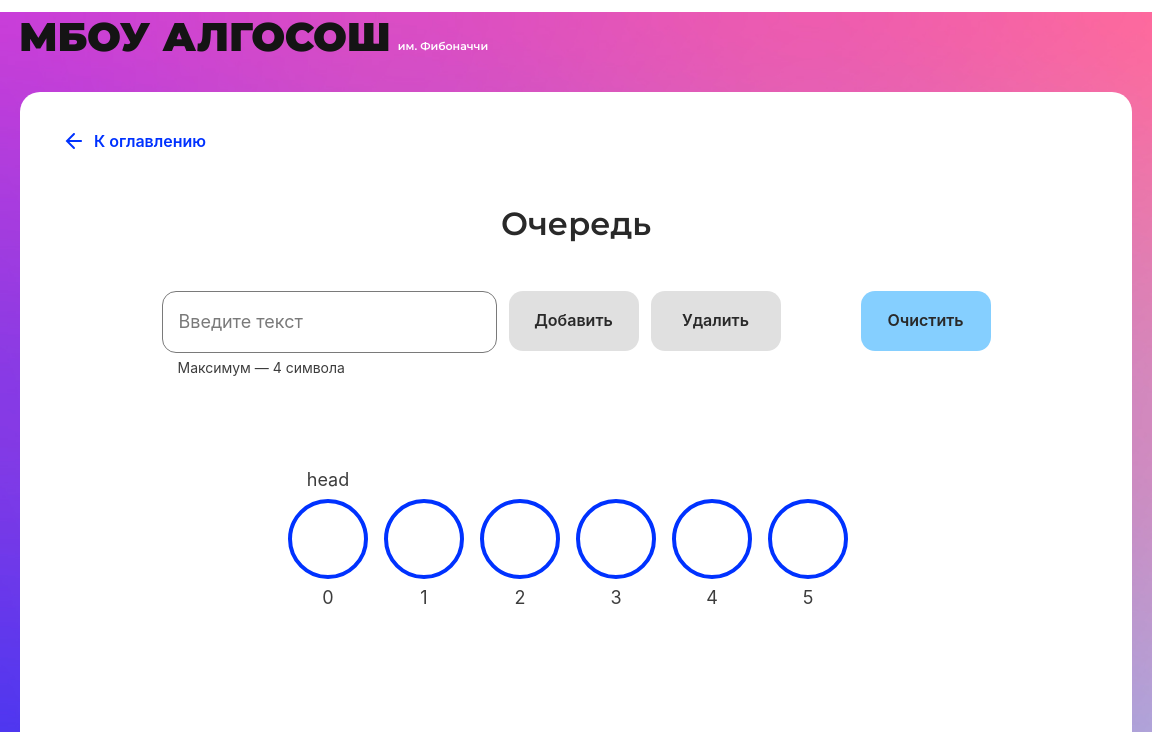
тестирование компонента queue › правильность добавления элемента в очередь
This screenshot has width=1152, height=732.
Type "1" into the field with test id "input" at (330, 322), box [162,291,497,353]
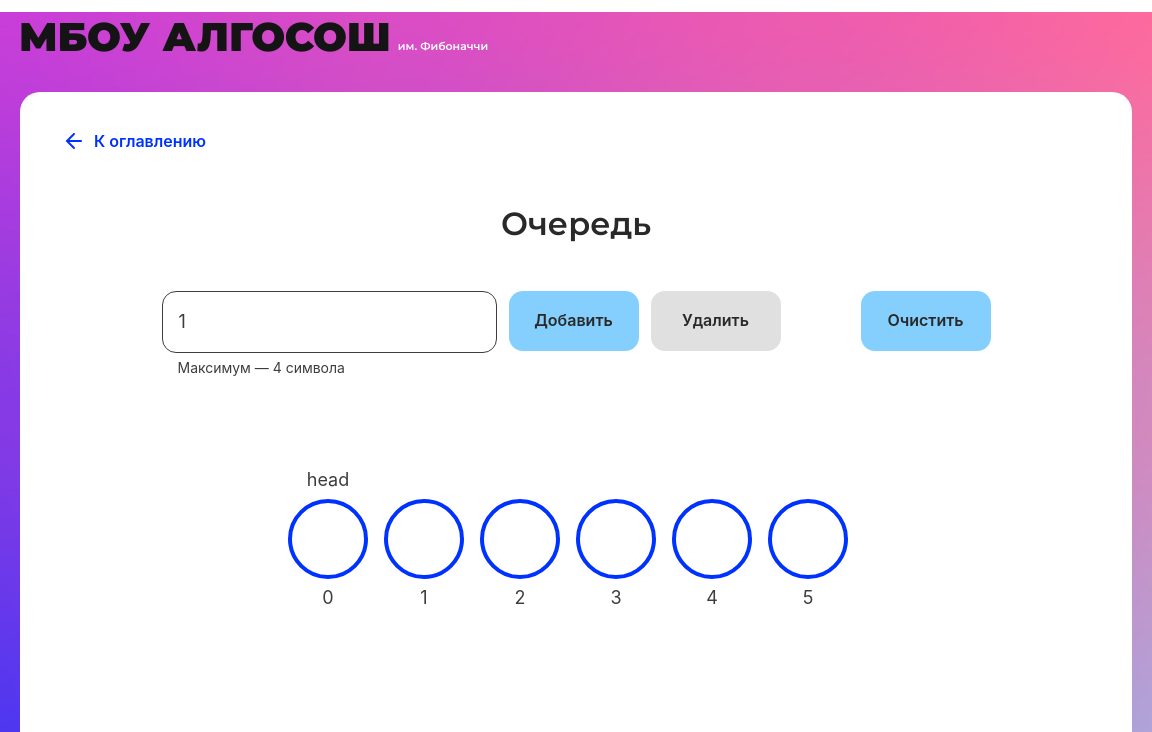
expect the element with test id "button_add" is enabled: met
Click the button with test id "button_add" at (574, 321), box [509,291,639,351]
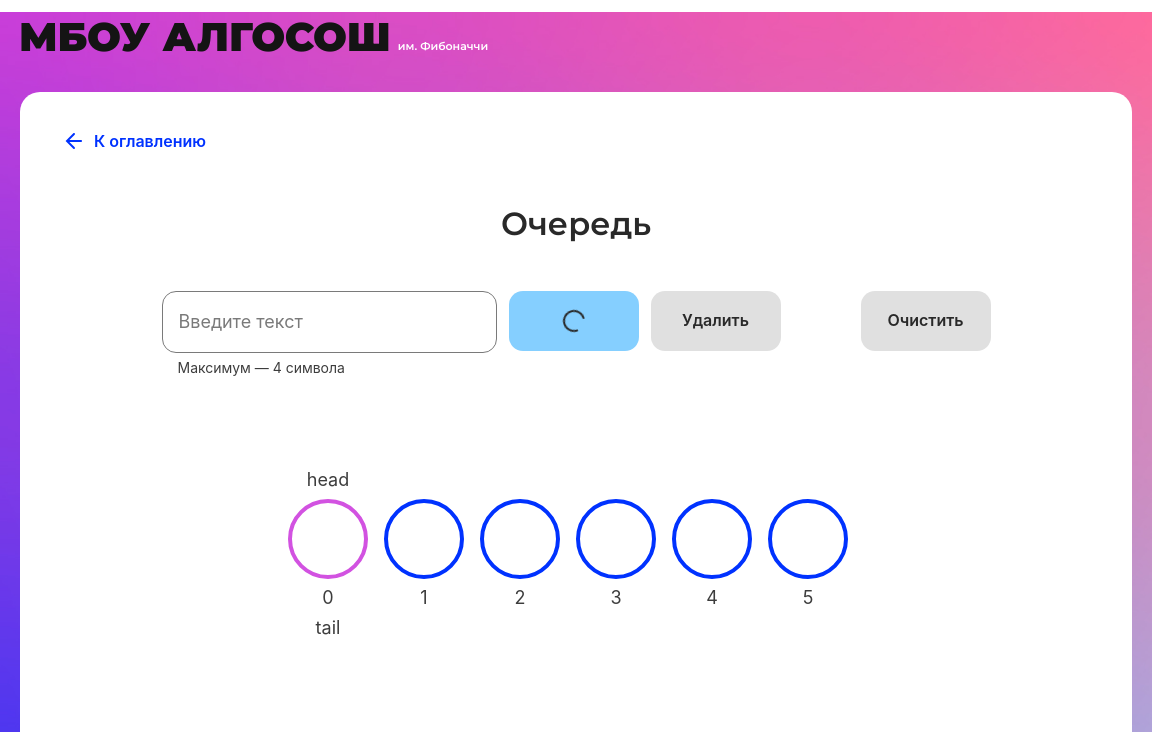
expect the text "head" is shown: met, box [307,469,349,491]
expect the button with test id "button_add" is disabled: met, box [509,291,639,351]
expect the text "tail" is shown: met, box [316,617,340,639]
Wait "500"
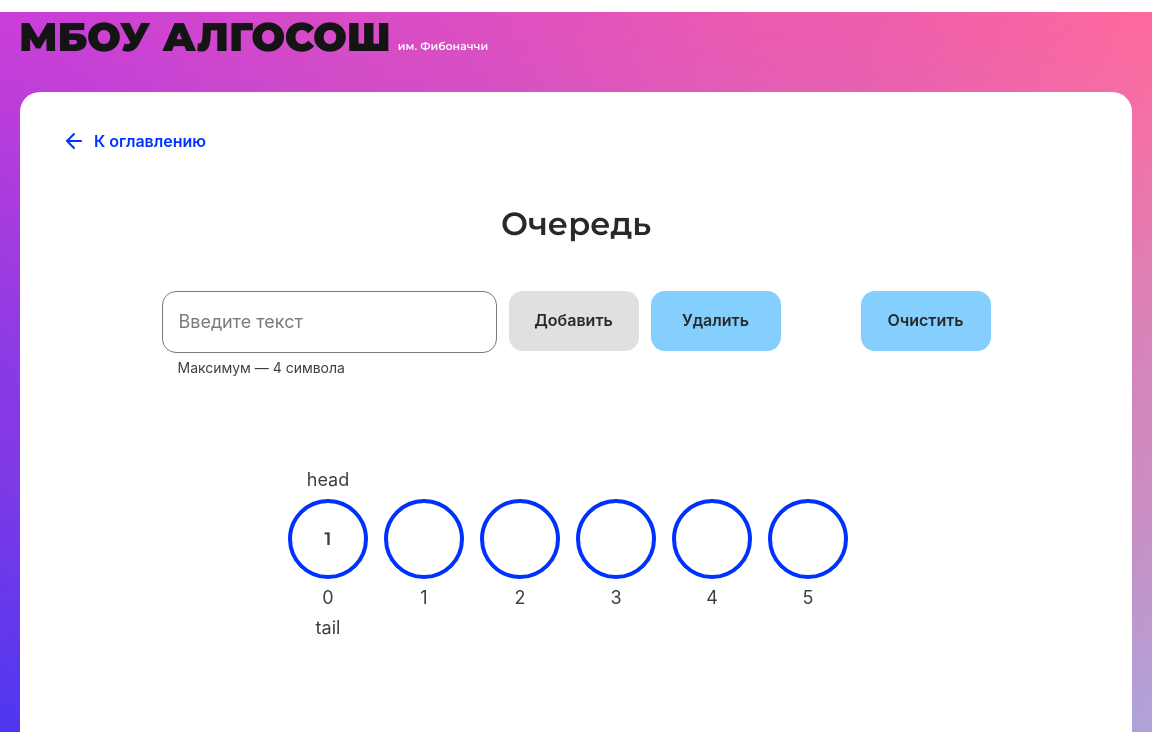
expect the element showing "1" is shown: met, box [288,499,368,579]
Type "2" into the field with test id "input" at (330, 322), box [162,291,497,353]
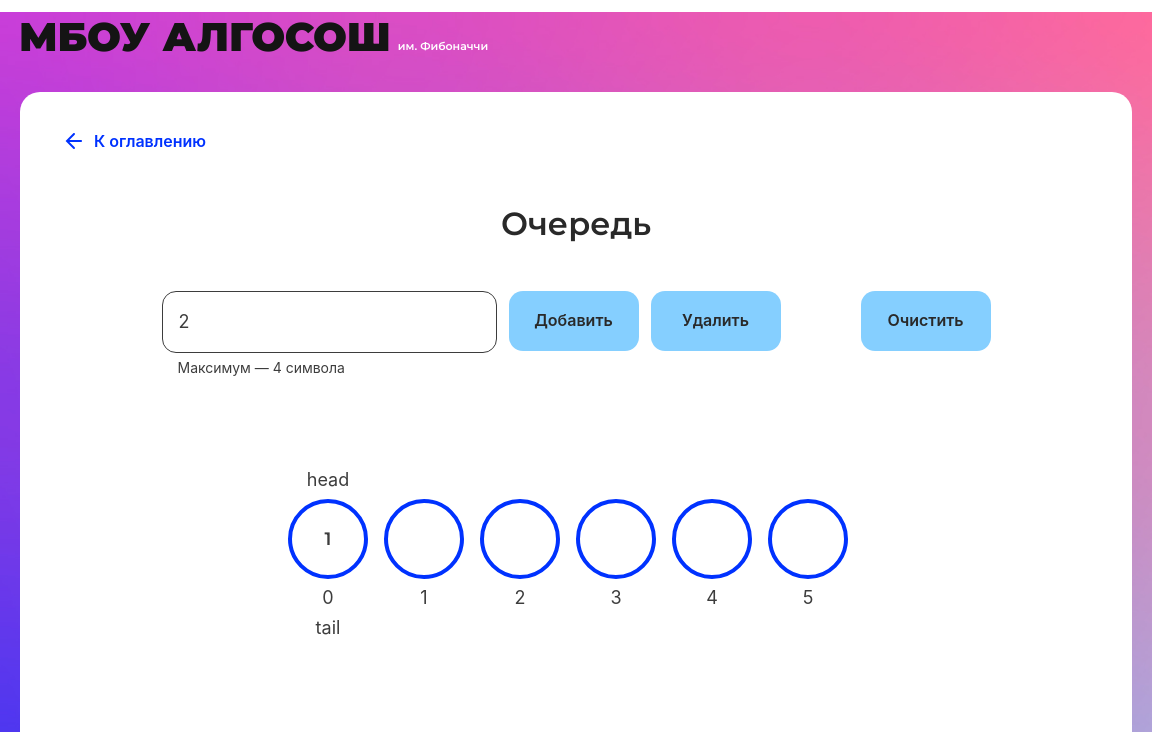
expect the element with test id "button_add" is enabled: met
Click the button with test id "button_add" at (574, 321), box [509,291,639,351]
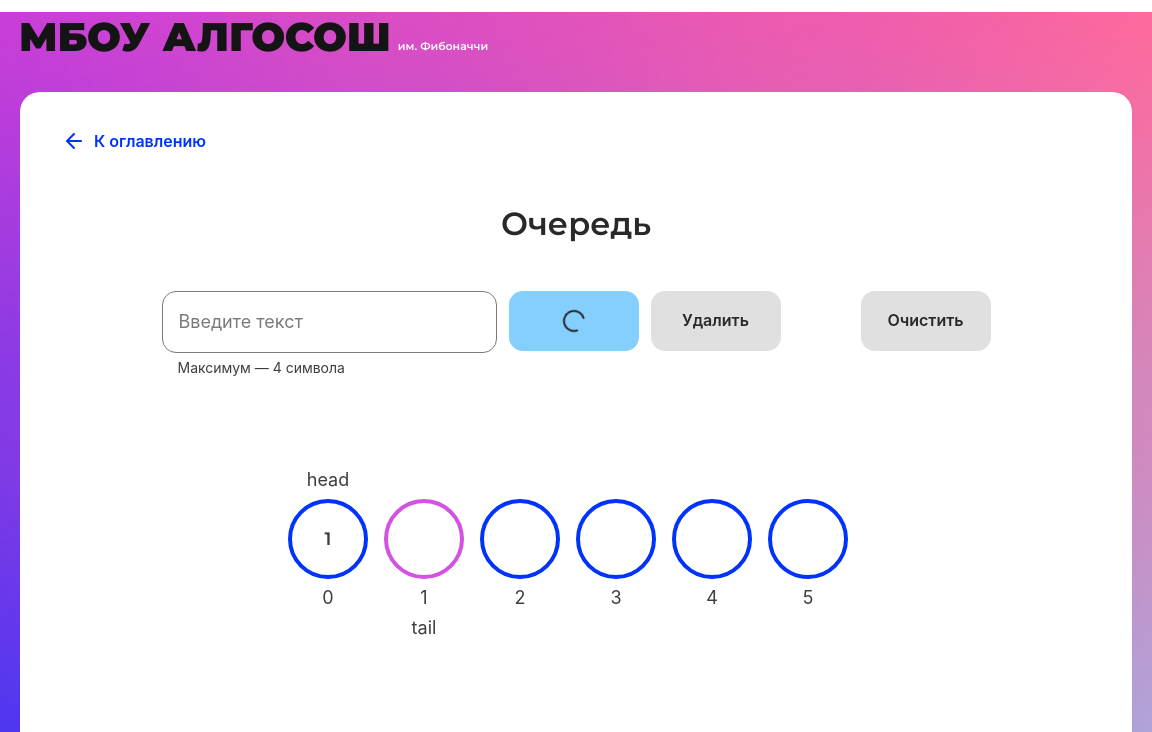
expect the element showing "1" is shown: met, box [288,499,368,579]
expect the text "tail" is shown: met, box [412,617,436,639]
expect the button with test id "button_add" is disabled: met, box [509,291,639,351]
Wait "500"
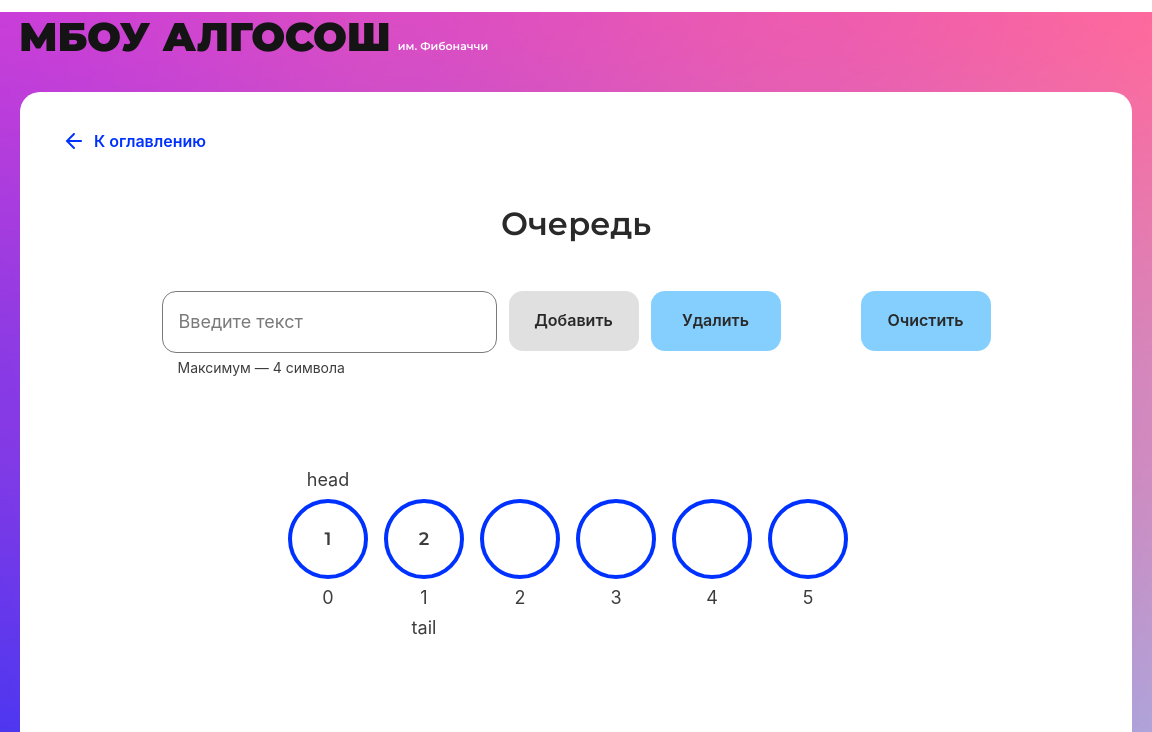
expect the element showing "2" is shown: met, box [384,499,464,579]
